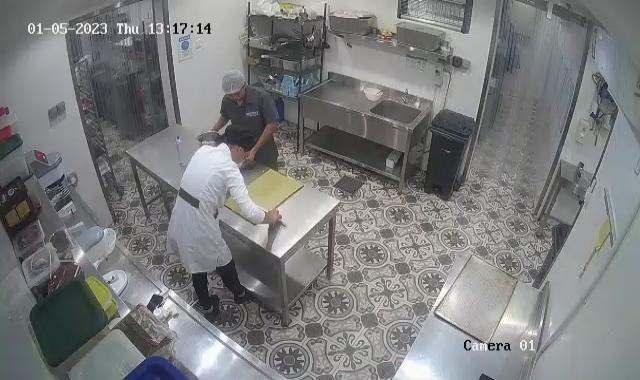hairnet: (220, 68, 245, 97)
no_hairnet: (222, 123, 254, 158)
